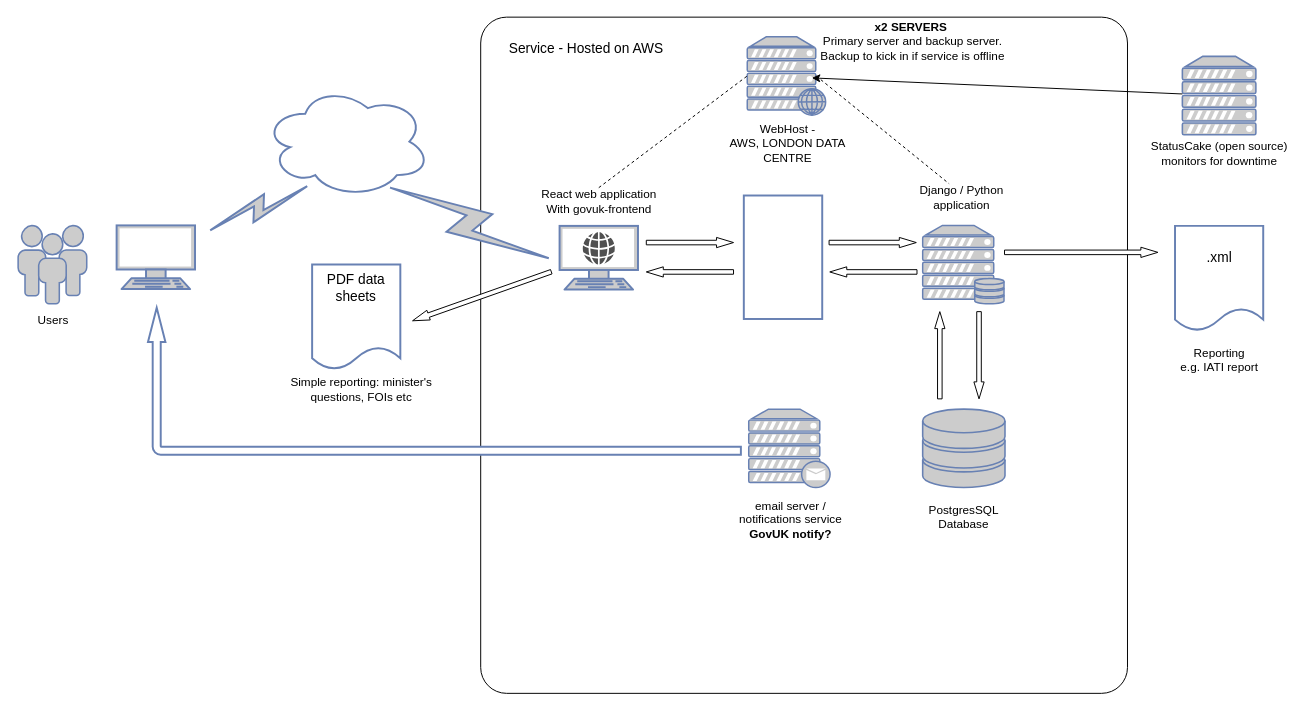
Image size: 1309x711. Some labels were removed from this diagram. The shapes that lost their labels are listed below. From the top down, each one's centre as x and y in pixels, then its label:
the point at 346,141: World Wide Web
the point at 782,256: Rest API
